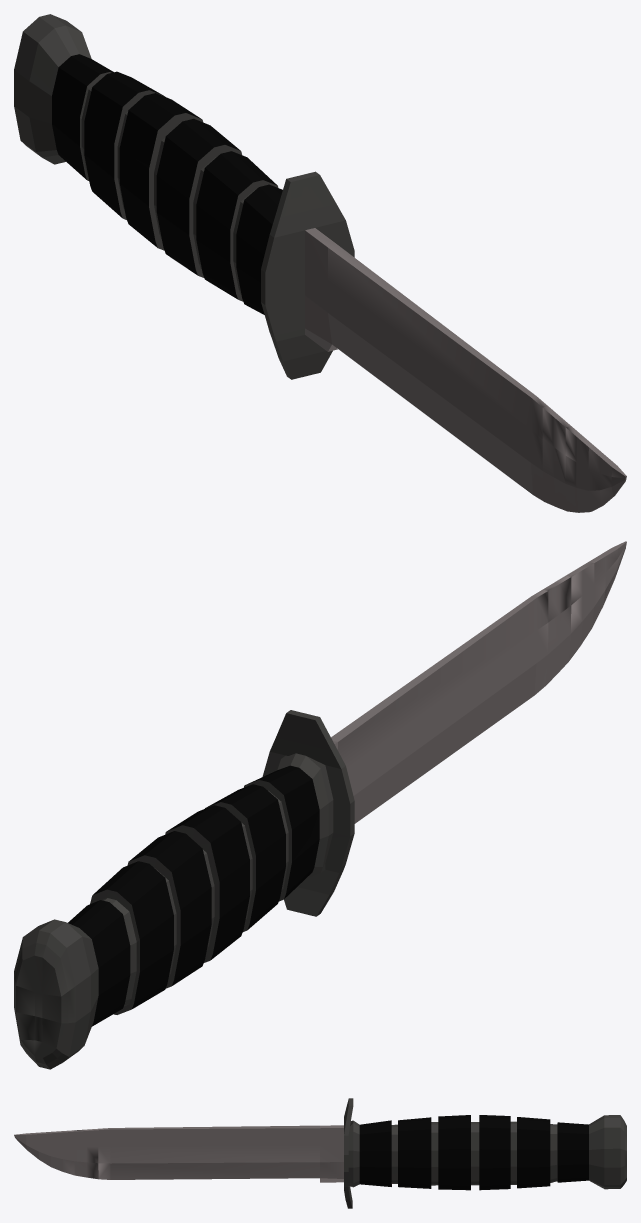
Rendered from Hunting Knife01.fbx.
The picture shows the model from 3 angles, top to bottom: view 1: azimuth 30°, elevation 25°; view 2: azimuth 150°, elevation 25°; view 3: azimuth 270°, elevation 25°; orthographic projection. The views are drawn at different scales.
Visible parts, largest first — view 1: Hunting Knife01; view 2: Hunting Knife01; view 3: Hunting Knife01.
Part boxes in pixels (<box>): Hunting Knife01: <box>14,14,626,512</box>; Hunting Knife01: <box>14,541,626,1069</box>; Hunting Knife01: <box>14,1098,626,1208</box>.
Size of the model in its own units: 0.0255 by 0.0538 by 0.2904.
